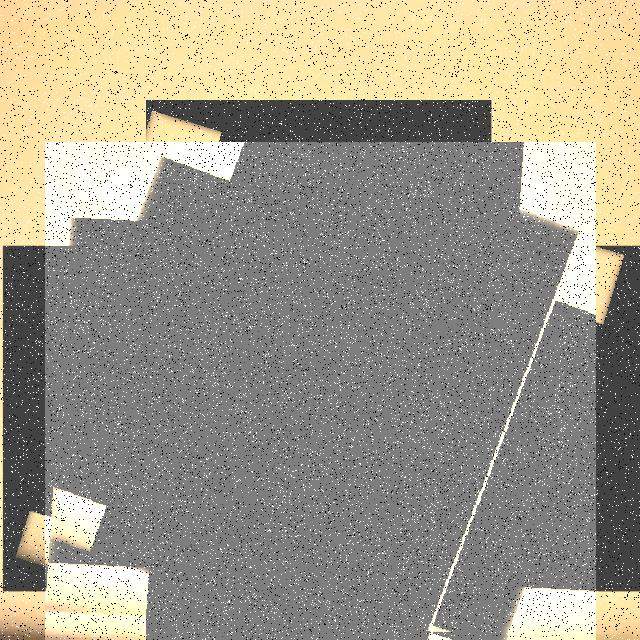dua puluh ribu rupiah: (45, 142, 596, 640)
